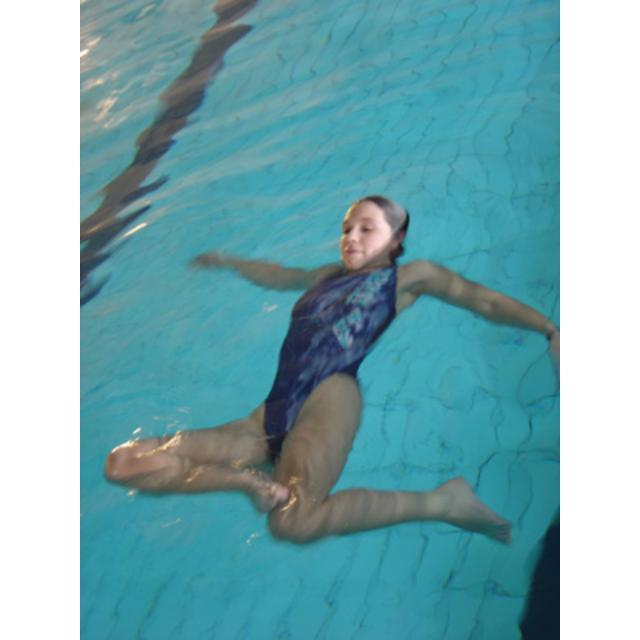human: (103, 196, 559, 548)
